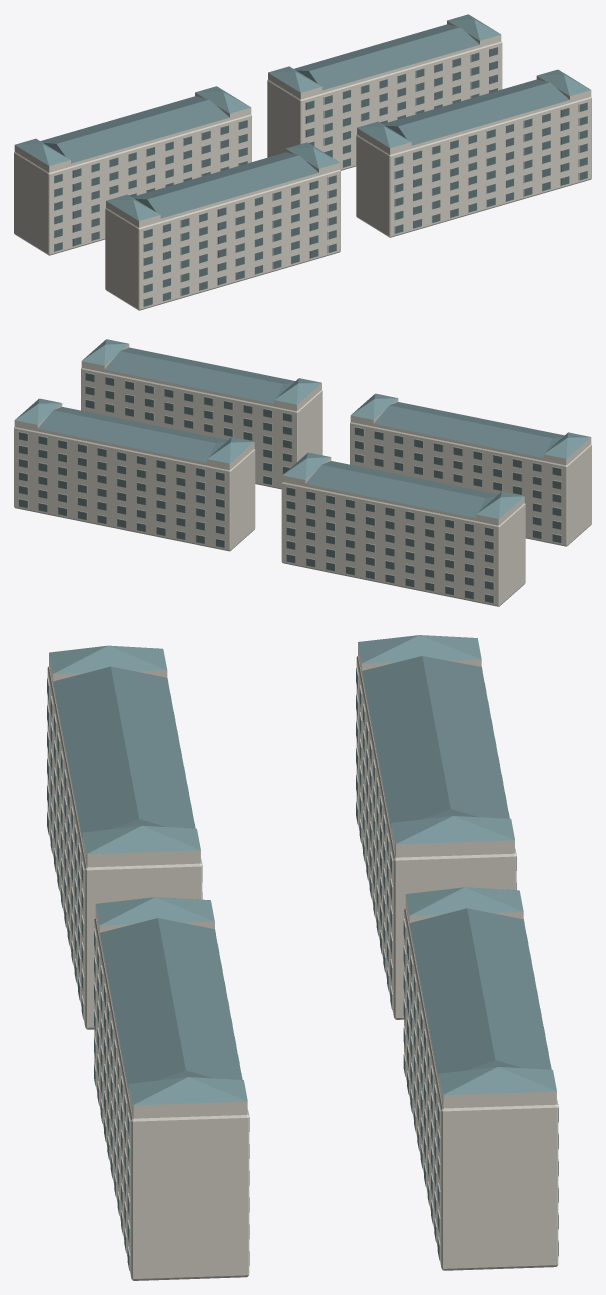
The model's file is seu_meiyuan9_detail_v05.glb.
3 views of the same model, one above another, from view 1: azimuth 30°, elevation 25°; view 2: azimuth 150°, elevation 25°; view 3: azimuth 270°, elevation 25° (orthographic). The views are drawn at different scales.
Parts seen in each view (by area): view 1: SEU_B_OSMWAY_630141912__0004, SEU_B_OSMWAY_630141909__0004, SEU_B_OSMWAY_630141910__0004, SEU_B_OSMWAY_630141914__0004, SEU_B_OSMWAY_630141910__V05M9_roof_segment_1, SEU_B_OSMWAY_630141912__V05M9_roof_segment_1, SEU_B_OSMWAY_630141909__V05M9_roof_segment_1, SEU_B_OSMWAY_630141914__V05M9_roof_segment_1, SEU_B_OSMWAY_630141912__0002, SEU_B_OSMWAY_630141909__0002, SEU_B_OSMWAY_630141910__0002, SEU_B_OSMWAY_630141914__0002 (+12 smaller); view 2: SEU_B_OSMWAY_630141910__0004, SEU_B_OSMWAY_630141914__0004, SEU_B_OSMWAY_630141909__0004, SEU_B_OSMWAY_630141912__0004, SEU_B_OSMWAY_630141910__V05M9_roof_segment_1, SEU_B_OSMWAY_630141912__V05M9_roof_segment_1, SEU_B_OSMWAY_630141909__V05M9_roof_segment_1, SEU_B_OSMWAY_630141914__V05M9_roof_segment_1, SEU_B_OSMWAY_630141914__0002, SEU_B_OSMWAY_630141910__0002, SEU_B_OSMWAY_630141909__0002, SEU_B_OSMWAY_630141912__0002 (+12 smaller); view 3: SEU_B_OSMWAY_630141912__0004, SEU_B_OSMWAY_630141914__0004, SEU_B_OSMWAY_630141910__V05M9_roof_segment_1, SEU_B_OSMWAY_630141912__V05M9_roof_segment_1, SEU_B_OSMWAY_630141909__V05M9_roof_segment_1, SEU_B_OSMWAY_630141914__V05M9_roof_segment_1, SEU_B_OSMWAY_630141910__0004, SEU_B_OSMWAY_630141909__0004, SEU_B_OSMWAY_630141910__V05M9_roof_segment_2, SEU_B_OSMWAY_630141912__V05M9_roof_segment_2, SEU_B_OSMWAY_630141909__V05M9_roof_segment_2, SEU_B_OSMWAY_630141914__V05M9_roof_segment_2 (+12 smaller).
Boxes of the visible parts, <box> form: SEU_B_OSMWAY_630141912__0004: <box>356,97,591,237</box>; SEU_B_OSMWAY_630141909__0004: <box>105,169,340,310</box>; SEU_B_OSMWAY_630141910__0004: <box>14,114,251,255</box>; SEU_B_OSMWAY_630141914__0004: <box>267,41,502,170</box>; SEU_B_OSMWAY_630141910__V05M9_roof_segment_1: <box>40,96,229,166</box>; SEU_B_OSMWAY_630141912__V05M9_roof_segment_1: <box>383,79,569,148</box>; SEU_B_OSMWAY_630141909__V05M9_roof_segment_1: <box>132,152,318,221</box>; SEU_B_OSMWAY_630141914__V05M9_roof_segment_1: <box>294,24,479,93</box>; SEU_B_OSMWAY_630141912__0002: <box>395,102,587,233</box>; SEU_B_OSMWAY_630141909__0002: <box>144,175,336,306</box>; SEU_B_OSMWAY_630141910__0002: <box>54,120,247,251</box>; SEU_B_OSMWAY_630141914__0002: <box>306,47,497,167</box>; SEU_B_OSMWAY_630141910__0004: <box>281,482,525,606</box>; SEU_B_OSMWAY_630141914__0004: <box>14,427,255,551</box>; SEU_B_OSMWAY_630141909__0004: <box>350,422,591,546</box>; SEU_B_OSMWAY_630141912__0004: <box>81,368,322,489</box>; SEU_B_OSMWAY_630141910__V05M9_roof_segment_1: <box>305,461,497,520</box>; SEU_B_OSMWAY_630141912__V05M9_roof_segment_1: <box>104,347,295,406</box>; SEU_B_OSMWAY_630141909__V05M9_roof_segment_1: <box>373,402,564,460</box>; SEU_B_OSMWAY_630141914__V05M9_roof_segment_1: <box>37,407,227,465</box>; SEU_B_OSMWAY_630141914__0002: <box>19,432,224,547</box>; SEU_B_OSMWAY_630141910__0002: <box>286,487,493,602</box>; SEU_B_OSMWAY_630141909__0002: <box>355,427,561,542</box>; SEU_B_OSMWAY_630141912__0002: <box>85,373,291,484</box>; SEU_B_OSMWAY_630141912__0004: <box>94,917,249,1280</box>; SEU_B_OSMWAY_630141914__0004: <box>404,908,558,1270</box>; SEU_B_OSMWAY_630141910__V05M9_roof_segment_1: <box>362,656,509,834</box>; SEU_B_OSMWAY_630141912__V05M9_roof_segment_1: <box>99,918,242,1095</box>; SEU_B_OSMWAY_630141909__V05M9_roof_segment_1: <box>53,666,195,844</box>; SEU_B_OSMWAY_630141914__V05M9_roof_segment_1: <box>409,908,551,1084</box>; SEU_B_OSMWAY_630141910__0004: <box>356,656,516,1019</box>; SEU_B_OSMWAY_630141909__0004: <box>47,666,202,1029</box>; SEU_B_OSMWAY_630141910__V05M9_roof_segment_2: <box>391,816,514,857</box>; SEU_B_OSMWAY_630141912__V05M9_roof_segment_2: <box>128,1077,247,1118</box>; SEU_B_OSMWAY_630141909__V05M9_roof_segment_2: <box>82,825,200,867</box>; SEU_B_OSMWAY_630141914__V05M9_roof_segment_2: <box>438,1067,556,1108</box>.
Size of the model in its own units: 121 by 23.05 by 55.91.
